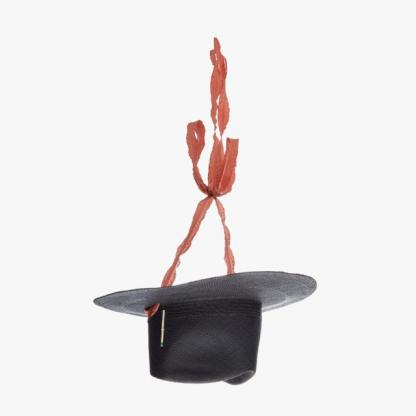hat: (89, 266, 321, 390)
